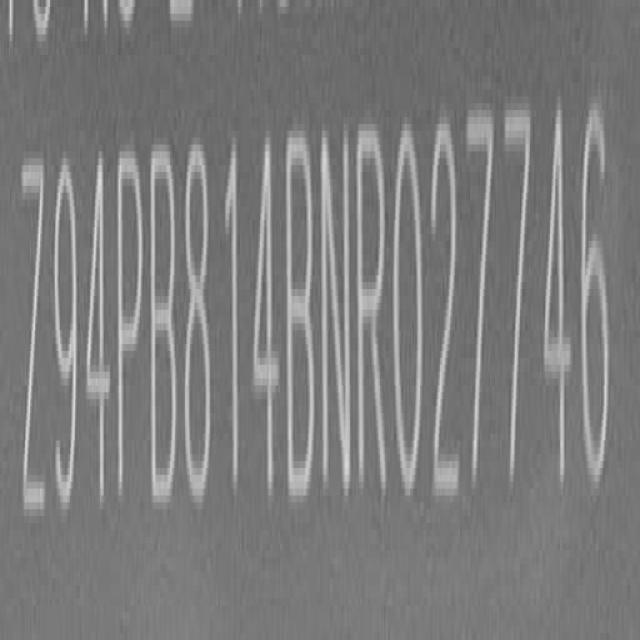0: (394, 118, 427, 508)
1: (225, 134, 244, 514)
2: (430, 109, 463, 510)
4: (543, 90, 576, 503), (252, 130, 282, 512), (86, 152, 115, 524)
6: (582, 101, 615, 500)
7: (464, 100, 498, 502), (505, 96, 536, 508)
8: (186, 140, 216, 512)
9: (50, 155, 78, 531)
B: (286, 124, 320, 507), (147, 140, 178, 516)
N: (321, 121, 354, 508)
P: (116, 146, 145, 518)
R: (356, 118, 388, 507)
Z: (20, 149, 48, 542)
